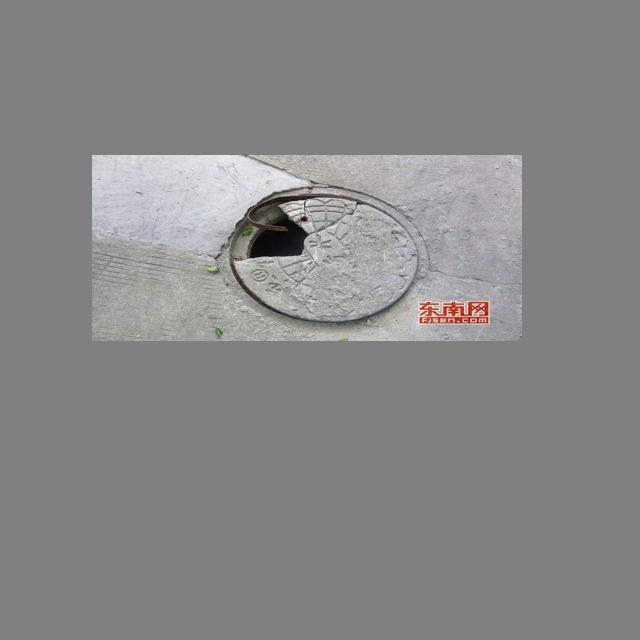broke: (208, 179, 438, 335)
